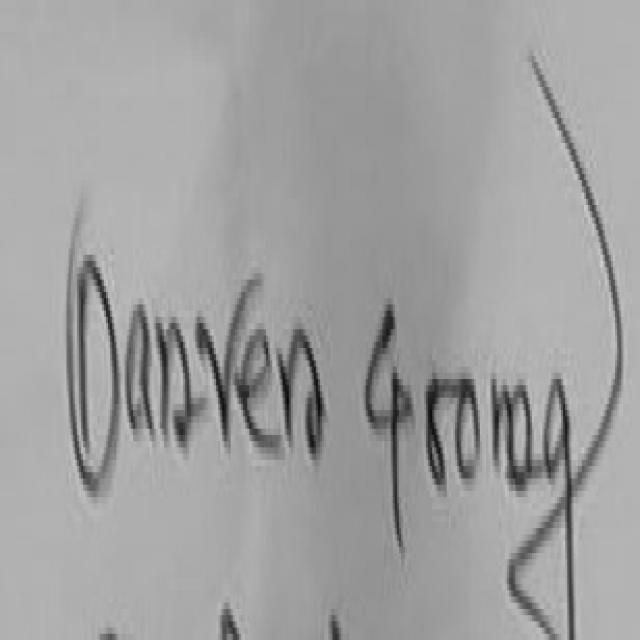0: (455, 375, 481, 484), (426, 385, 449, 492)
4: (366, 304, 414, 544)
D: (76, 252, 121, 493)
a: (124, 304, 157, 436)
e: (237, 329, 280, 453)
g: (509, 377, 576, 640)
m: (492, 361, 535, 482)
n: (157, 315, 193, 438)
r: (278, 329, 324, 453)
v: (195, 273, 261, 464)
